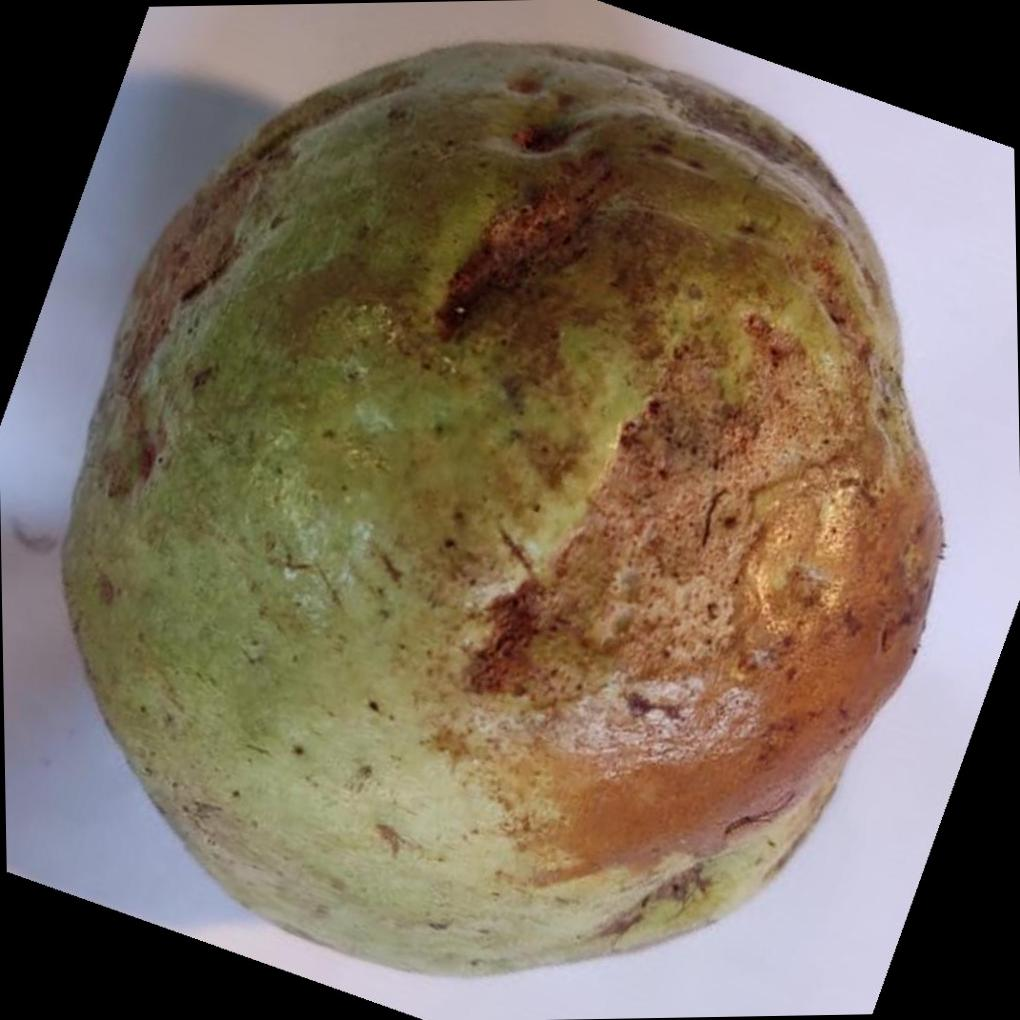FreshOrange: (57, 43, 946, 981)
